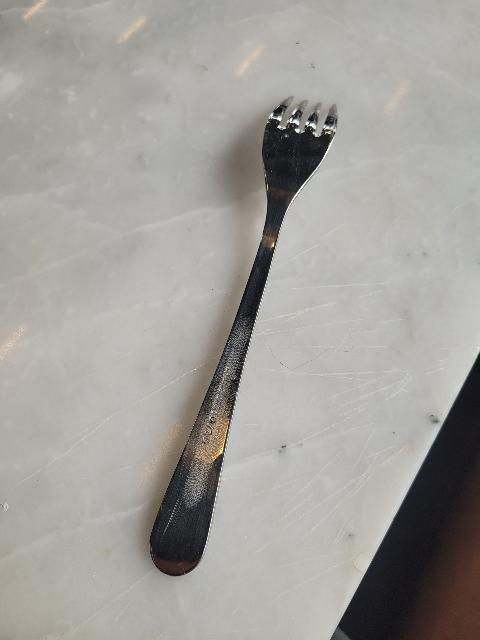Metal: (134, 93, 339, 603)
